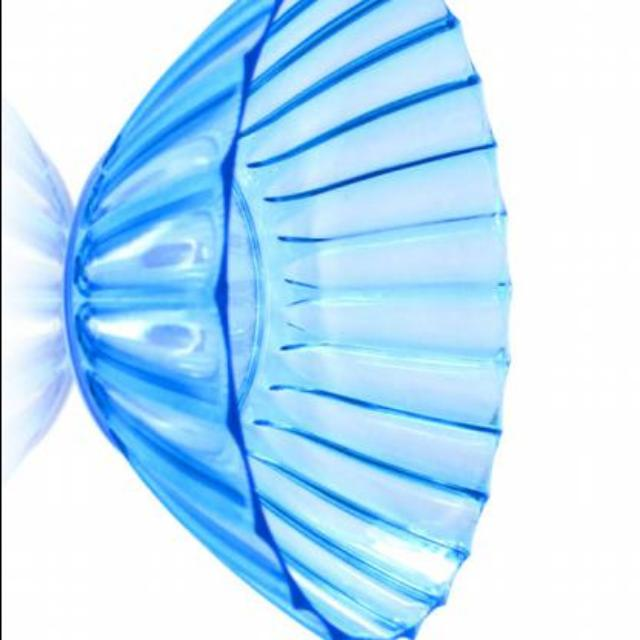plastic_box: (52, 0, 516, 638)
